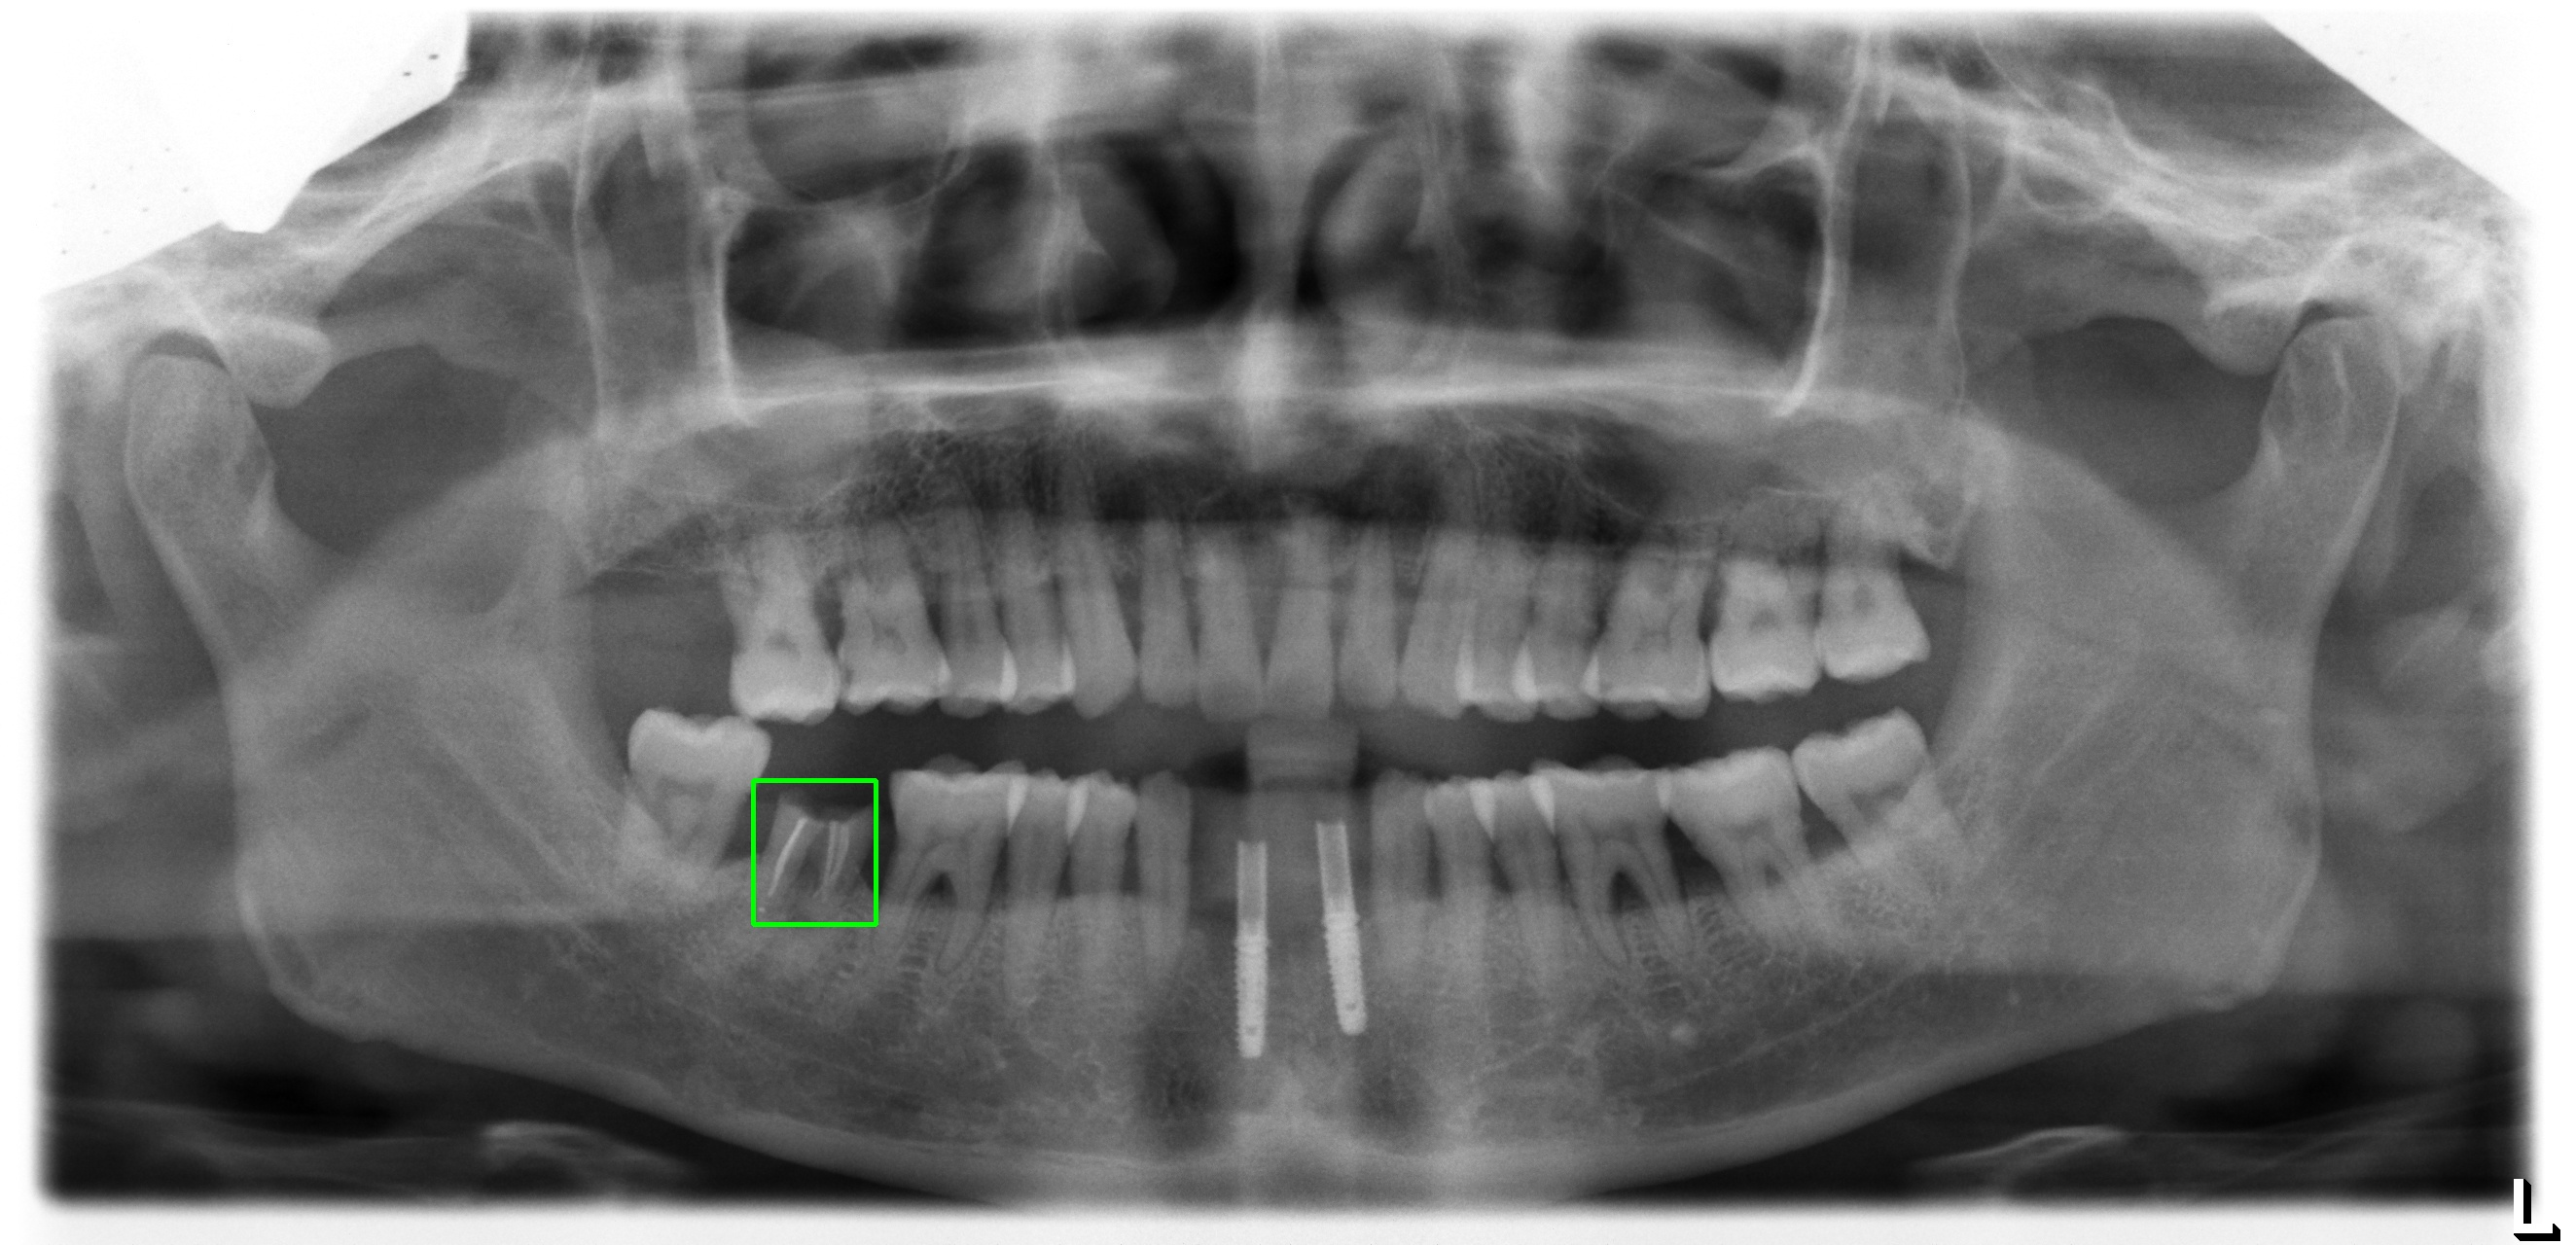Decay: (752, 780, 876, 925)
